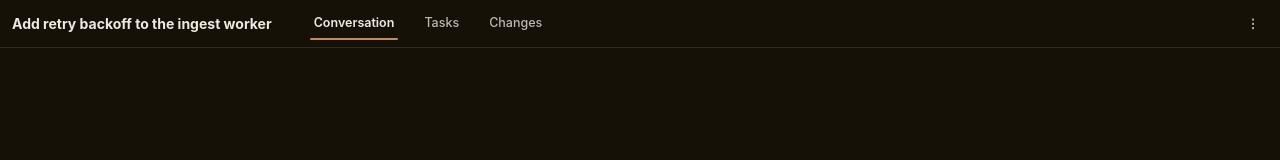
Test case: SessionWorkspace session refetch › a failed rename reverts to server truth immediately, not debounced
Later steps or results of the test are not shown.
Click the button titled "Rename session" at {"x": 142, "y": 24}, box [8,14,276,32]
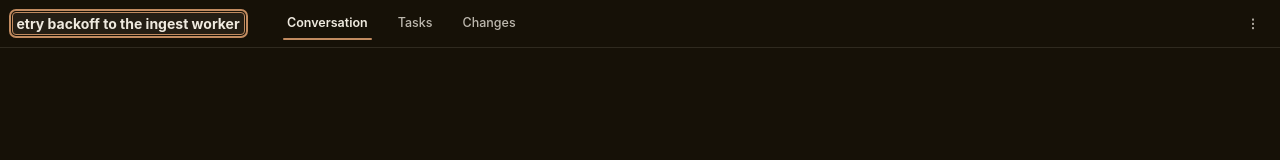
Replace the text in the field named "Session name" with "Will fail" at {"x": 128, "y": 24}, box [12,12,245,35]
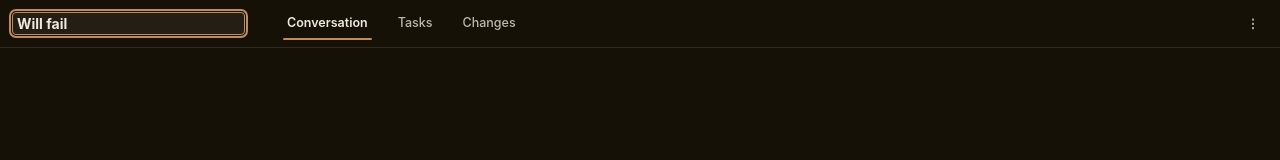
Press Enter in the field named "Session name", box [12,12,245,35]
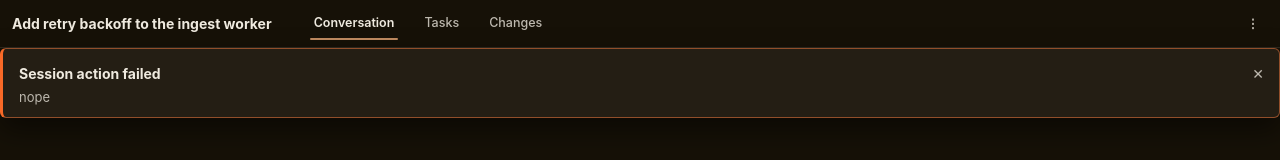
Now the button titled "Rename session" reads "Add retry backoff to the ingest worker", box [8,14,276,32]
